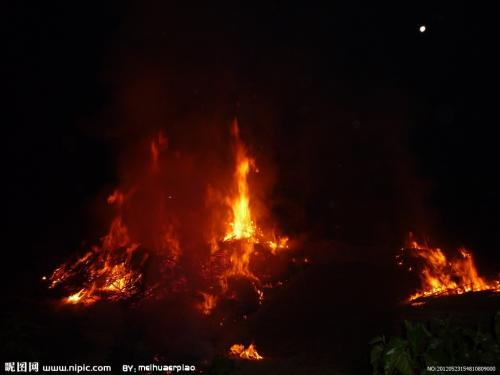fire: (221, 156, 263, 241), (412, 245, 486, 292)
